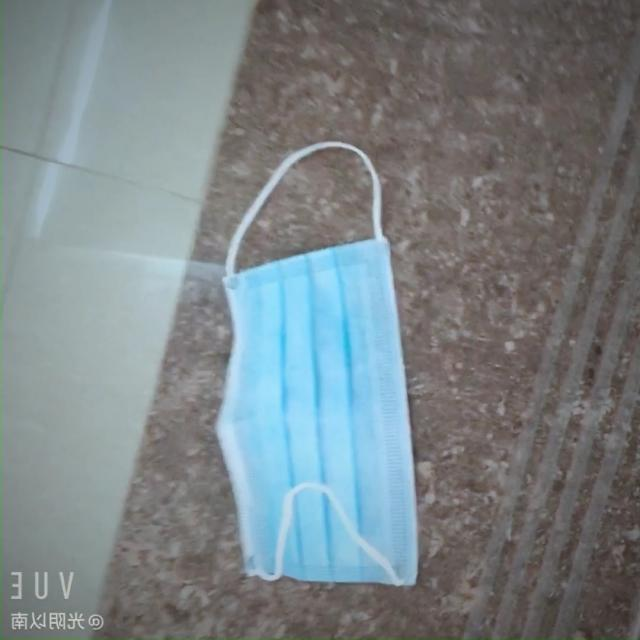face mask: (213, 240, 422, 592)
